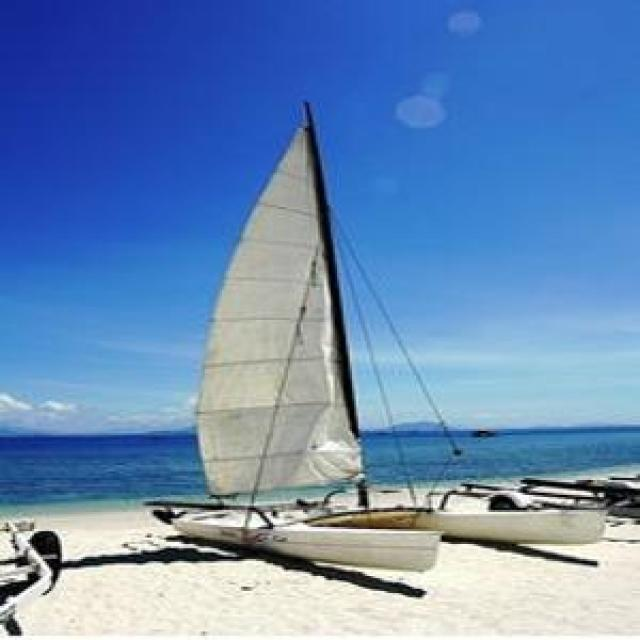sailboat: (142, 100, 442, 567)
